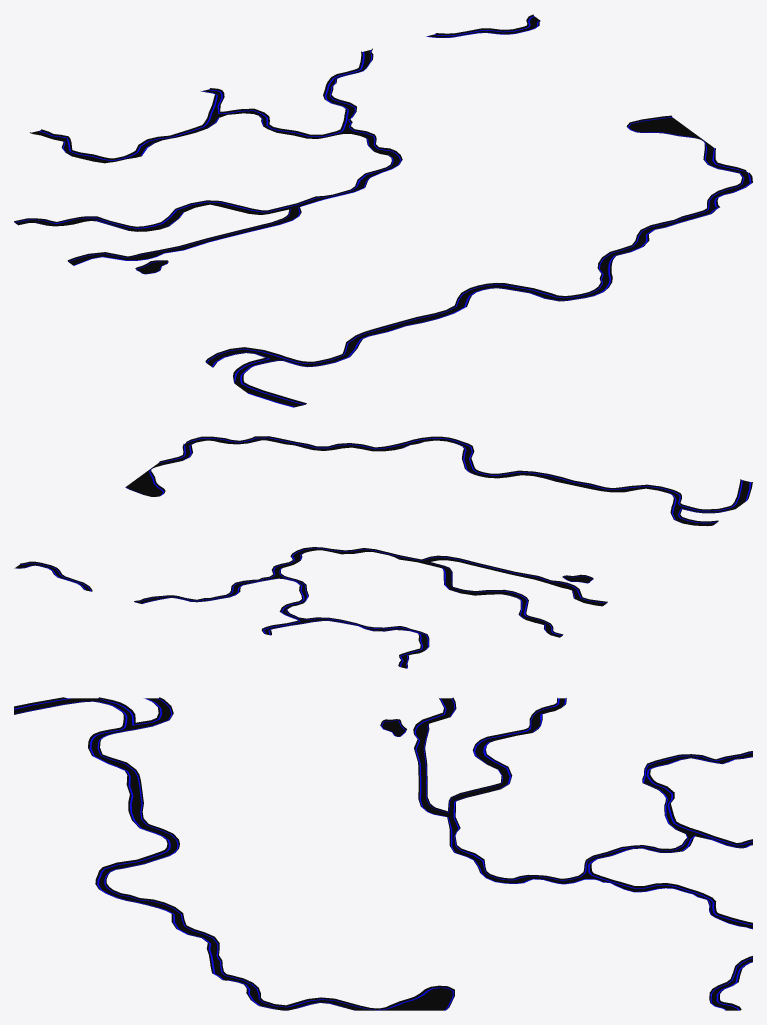
File: SM_Landscape_colditz_water.fbx
The picture shows the model from 3 angles, top to bottom: view 1: azimuth 30°, elevation 25°; view 2: azimuth 150°, elevation 25°; view 3: azimuth 270°, elevation 25°; orthographic projection. The views are drawn at different scales.
Parts seen in each view (by area): view 1: SM_Landscape_colditz_water; view 2: SM_Landscape_colditz_water; view 3: SM_Landscape_colditz_water.
Boxes of the visible parts, x1,y1,x2,y2 form: SM_Landscape_colditz_water: (14, 14, 752, 407); SM_Landscape_colditz_water: (14, 436, 752, 668); SM_Landscape_colditz_water: (14, 697, 752, 1010).
Size of the model in its own units: 300000 by 500 by 300000.
